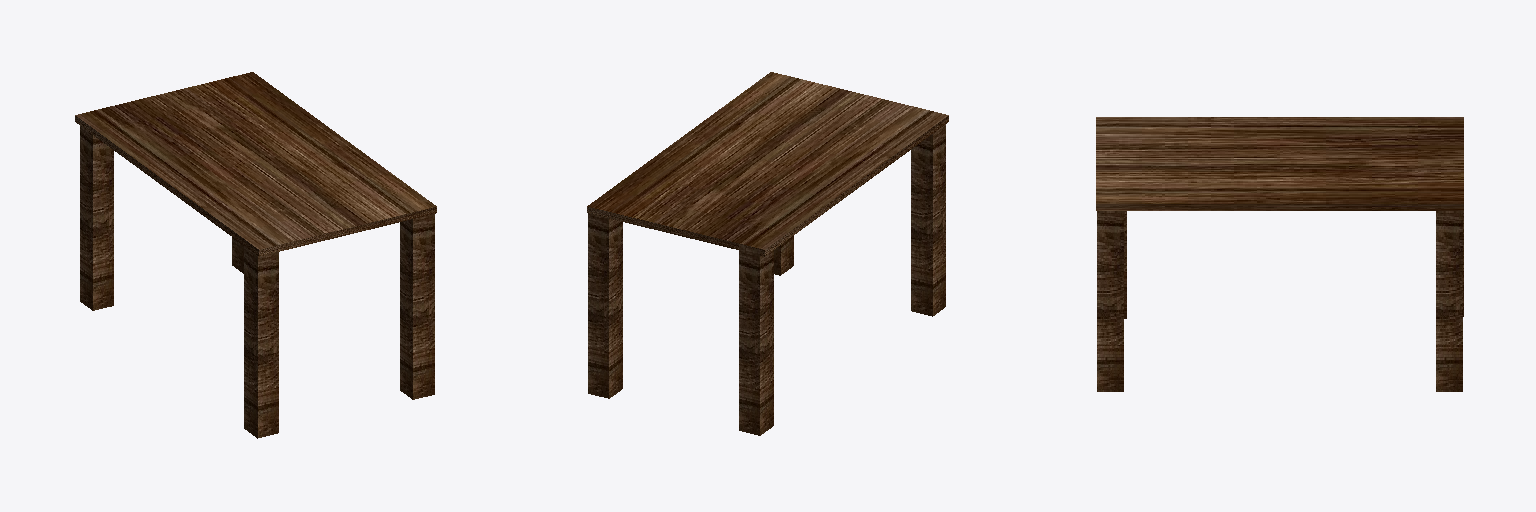
The picture shows the model from 3 angles: view 1: azimuth 30°, elevation 25°; view 2: azimuth 150°, elevation 25°; view 3: azimuth 270°, elevation 25°; orthographic projection.
Parts seen in each view (by area): view 1: Cube_Cube.001, Cube_004_Cube.005, Cube_003_Cube.004, Cube_002_Cube.003; view 2: Cube_Cube.001, Cube_002_Cube.003, Cube_001_Cube.002, Cube_004_Cube.005, Cube_003_Cube.004; view 3: Cube_Cube.001, Cube_001_Cube.002, Cube_003_Cube.004.
Boxes of the visible parts, <box> form: Cube_Cube.001: <box>75,72,436,256</box>; Cube_004_Cube.005: <box>244,246,278,438</box>; Cube_003_Cube.004: <box>400,214,434,399</box>; Cube_002_Cube.003: <box>80,126,113,310</box>; Cube_Cube.001: <box>587,72,948,256</box>; Cube_002_Cube.003: <box>739,245,773,435</box>; Cube_001_Cube.002: <box>588,214,622,398</box>; Cube_004_Cube.005: <box>911,124,945,316</box>; Cube_003_Cube.004: <box>774,236,793,275</box>; Cube_Cube.001: <box>1096,117,1463,210</box>; Cube_001_Cube.002: <box>1436,211,1462,391</box>; Cube_003_Cube.004: <box>1097,211,1123,391</box>.
Bounding box in the file's own units: 2 × 2.05 × 3.58.
1 materials, 1 textured.